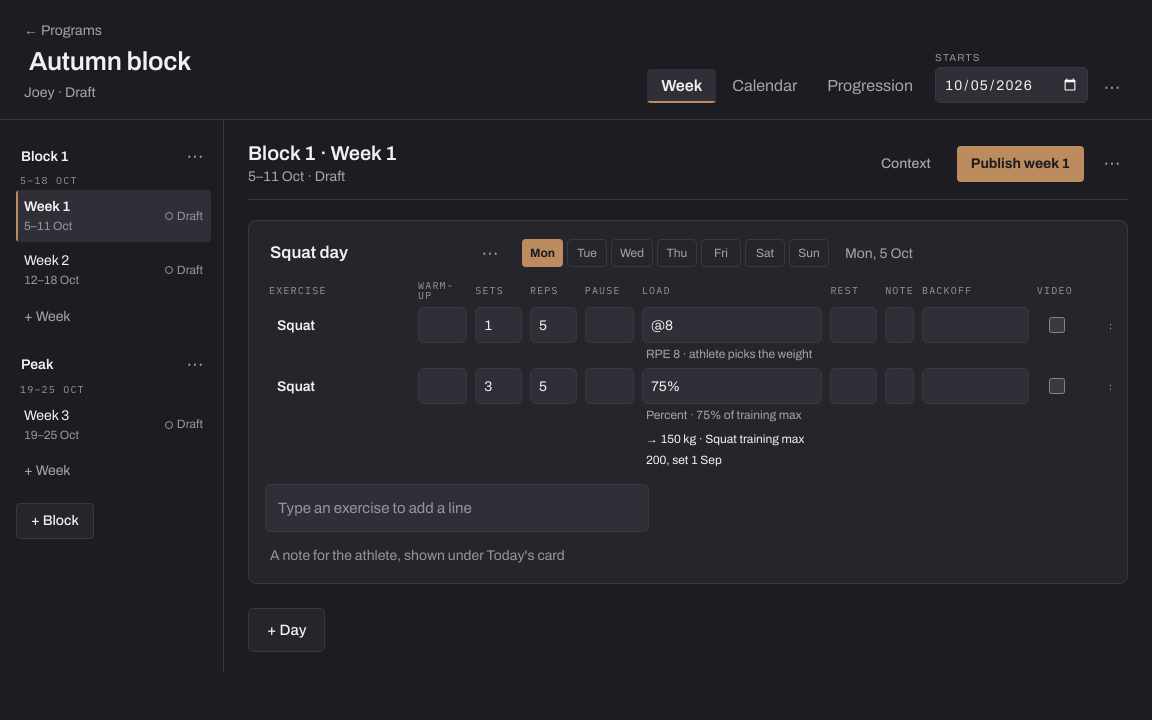
Test case: the outline › shows the selected week in the main pane, titled with its block and dates
Expected: the heading "Block 1 · Week 1" is shown, left=248, top=140, right=397, bottom=166
Click the button with aria-label "Week 3, draft": (114, 425) left=16, top=399, right=211, bottom=451
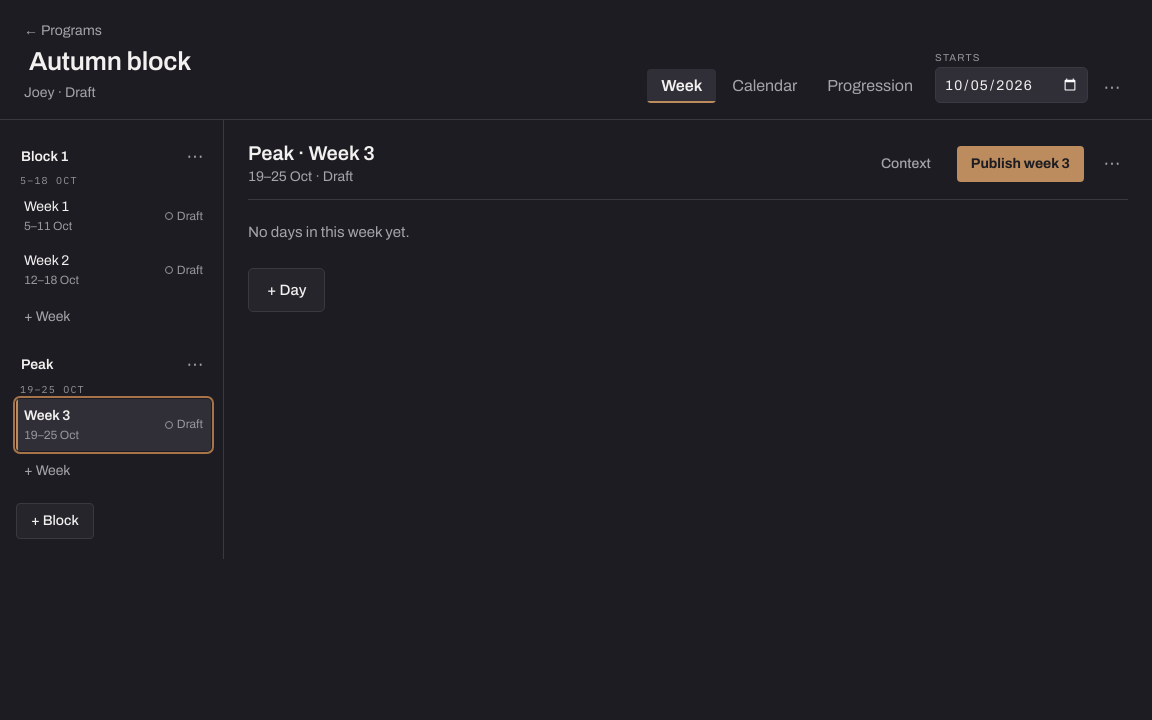
Expected: the heading "Peak · Week 3" is shown, left=248, top=140, right=375, bottom=166
Expected: the text "19–25 Oct · Draft" is shown, left=248, top=169, right=353, bottom=184
Expected: the text "No days in this week yet." is shown, left=248, top=224, right=410, bottom=240
